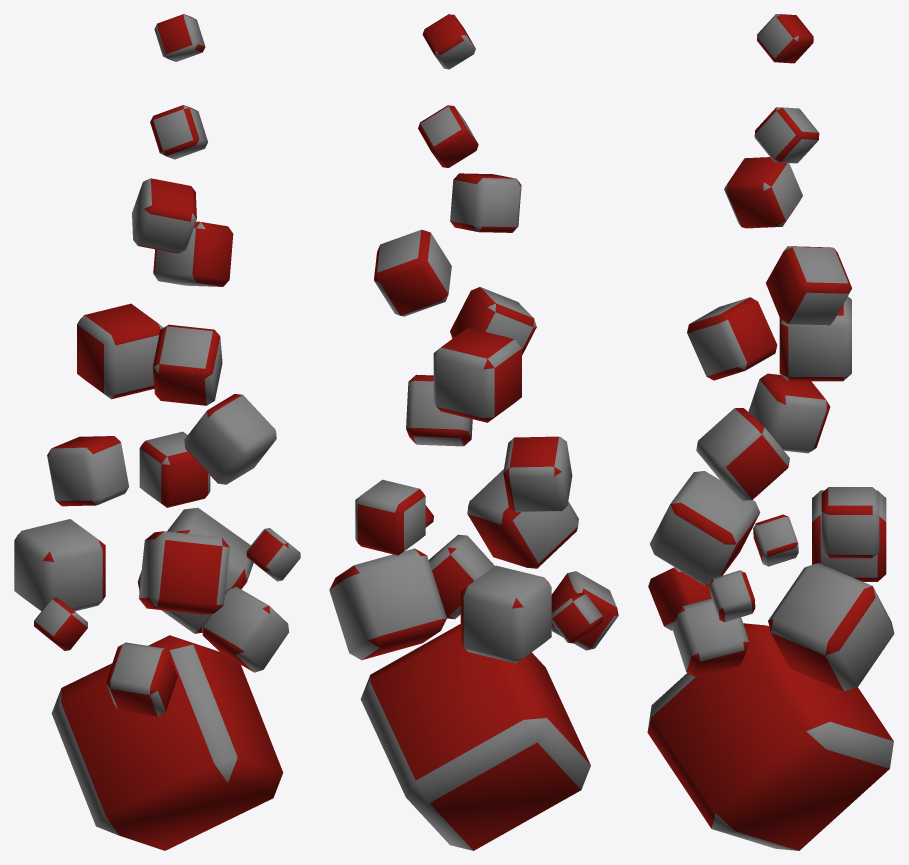
The model's file is 파이어볼 파이어볼.fbx.
The picture shows the model from 3 angles, left to right: view 1: azimuth 30°, elevation 25°; view 2: azimuth 150°, elevation 25°; view 3: azimuth 270°, elevation 25°; orthographic projection. The views are drawn at different scales.
Parts seen in each view (by area): view 1: Box009; view 2: Box009; view 3: Box009.
Part boxes in pixels (x1,y1,x2,y2): Box009: [14, 14, 300, 850]; Box009: [329, 14, 618, 850]; Box009: [647, 14, 894, 850].
Size of the model in its own units: 50.43 by 44.09 by 166.
